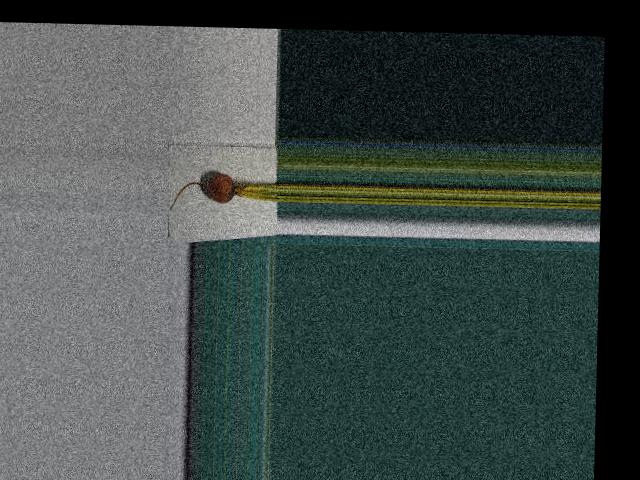beet: (170, 172, 277, 212)
